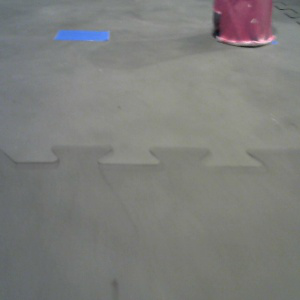Right: (212, 1, 275, 47)
